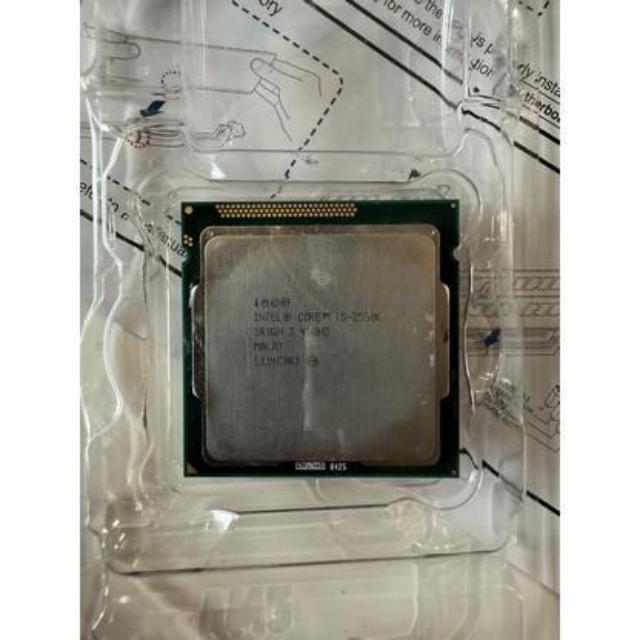CPU: (188, 207, 456, 478)
